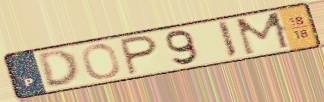9: (165, 28, 201, 66)
D: (35, 48, 82, 89)
I: (215, 19, 240, 60)
M: (233, 10, 294, 58)
O: (80, 43, 123, 80)
P: (117, 33, 160, 77)
